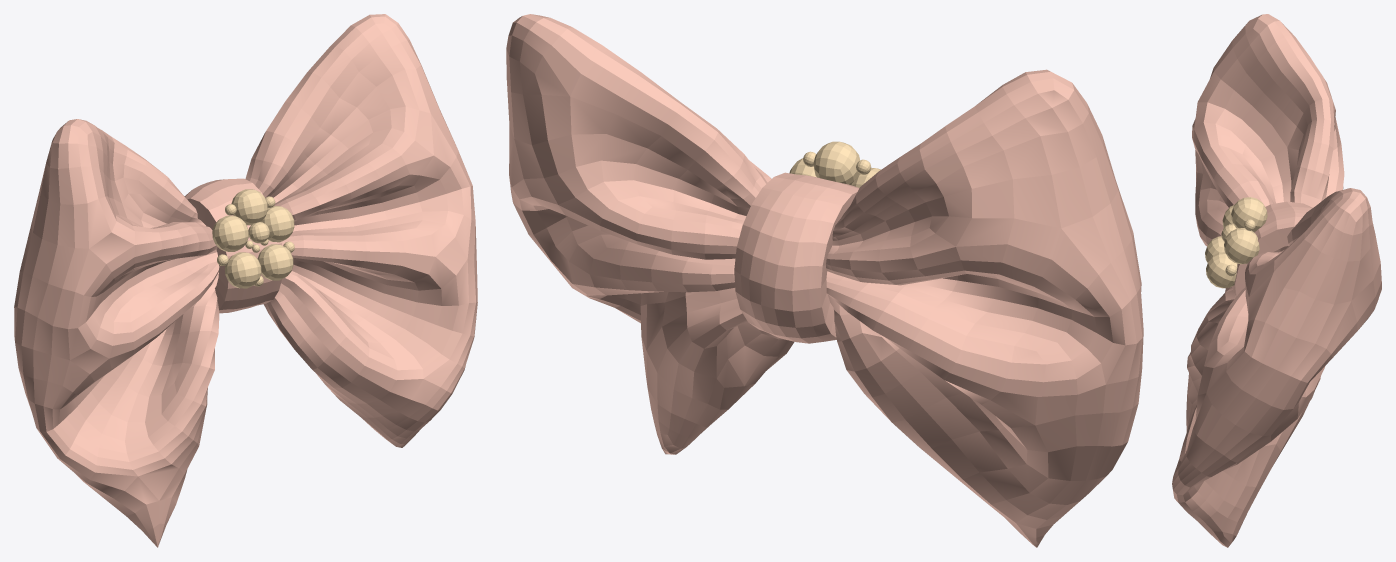
File: LaçoCabelo.fbx
The picture shows the model from 3 angles, left to right: view 1: azimuth 30°, elevation 25°; view 2: azimuth 150°, elevation 25°; view 3: azimuth 270°, elevation 25°; orthographic projection. The views are drawn at different scales.
Visible parts, largest first — view 1: LaçoCabelo; view 2: LaçoCabelo; view 3: LaçoCabelo.
Boxes of the visible parts, x1,y1,x2,y2 form: LaçoCabelo: (14,14,477,547); LaçoCabelo: (506,14,1143,547); LaçoCabelo: (1172,14,1381,547).
Size of the model in its own units: 3.06 by 2.59 by 1.22.
2 materials, 2 textured.
